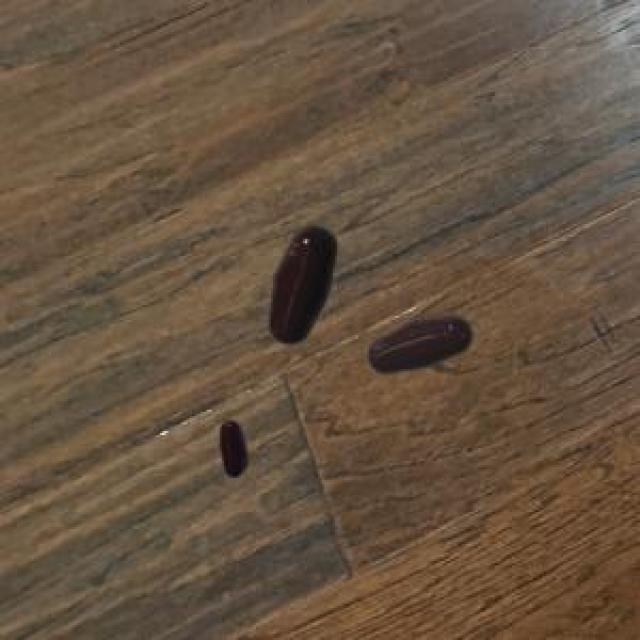DayZinc: (256, 205, 346, 352), (358, 299, 482, 388), (201, 406, 257, 489)
